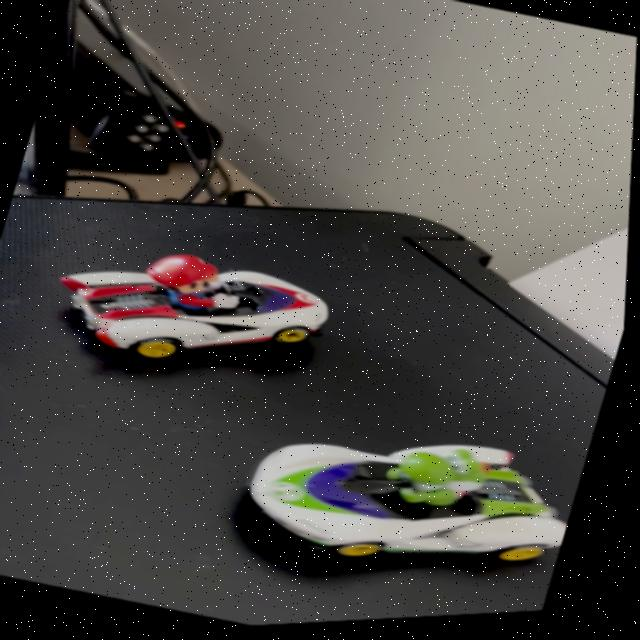mario: (16, 202, 371, 413)
yoshi: (280, 395, 593, 616)
